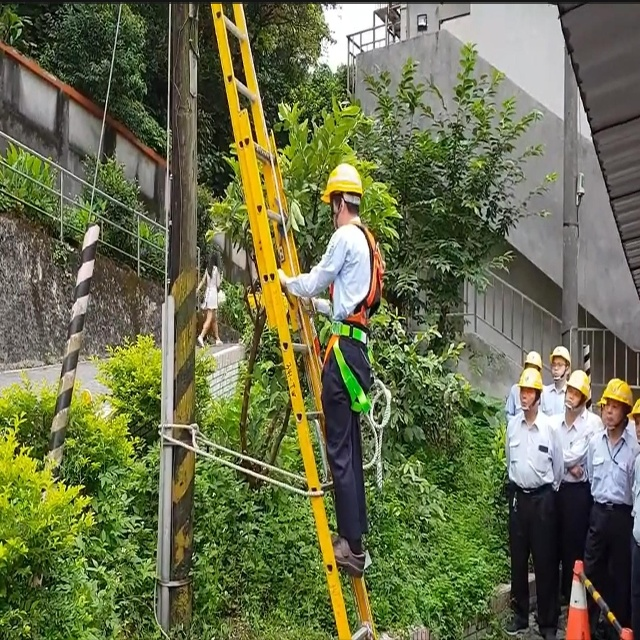Arnes_seguridad: (322, 220, 385, 422)
